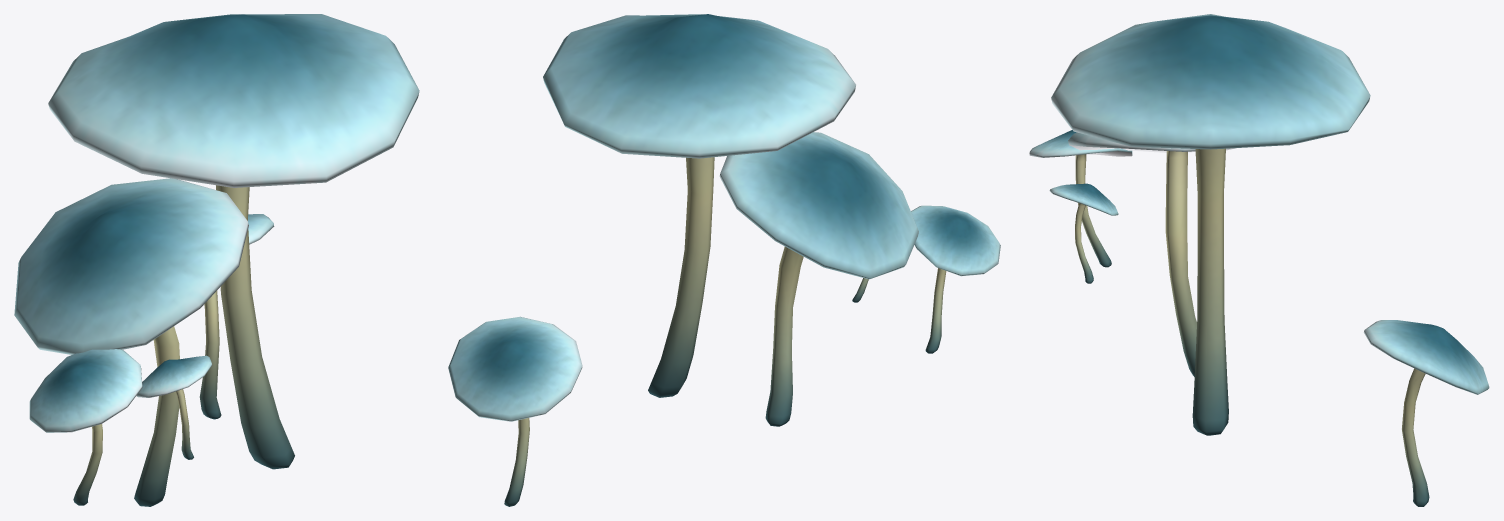
File: Cartoon Seaweed_13-1-37.fbx
3 views of the same model, side by side, from view 1: azimuth 30°, elevation 25°; view 2: azimuth 150°, elevation 25°; view 3: azimuth 270°, elevation 25° (orthographic). The views are drawn at different scales.
Visible parts, largest first — view 1: Cartoon Seaweed_13.1.37; view 2: Cartoon Seaweed_13.1.37; view 3: Cartoon Seaweed_13.1.37.
Boxes of the visible parts, <box> form: Cartoon Seaweed_13.1.37: <box>14,14,419,506</box>; Cartoon Seaweed_13.1.37: <box>448,14,1000,506</box>; Cartoon Seaweed_13.1.37: <box>1029,14,1489,506</box>.
Bounding box in the file's own units: 10.47 × 11.87 × 11.22.
Materials: 1 (1 with a texture image).
